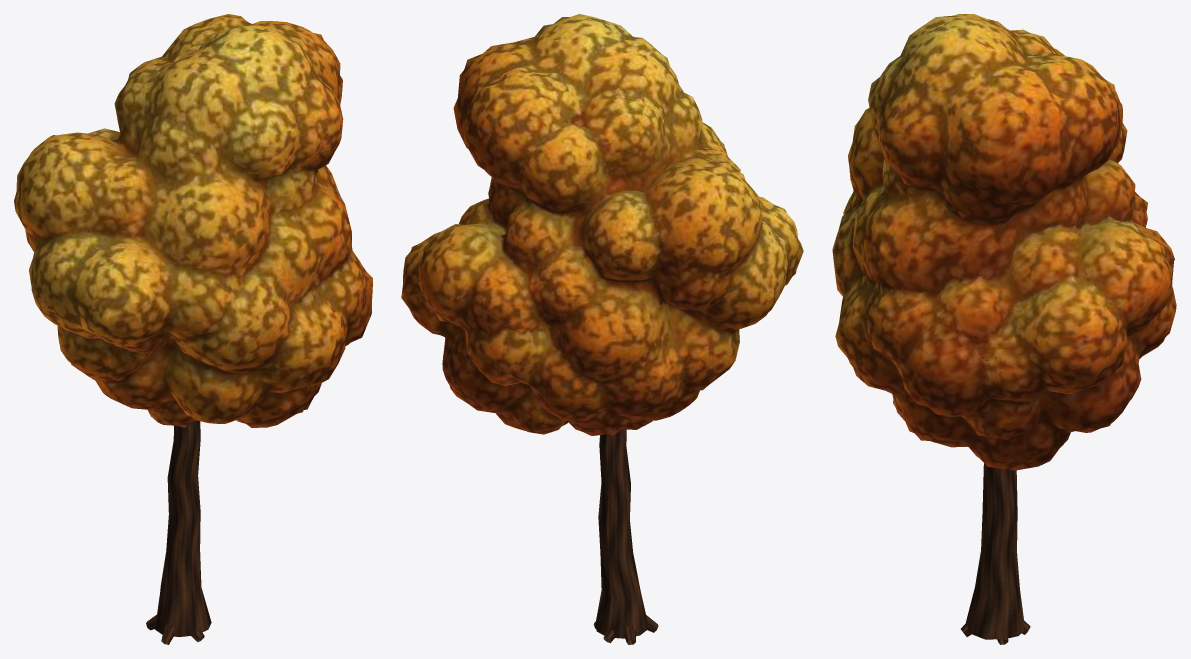
The model's file is tree_maple_orange_lod1.glb.
The picture shows the model from 3 angles, left to right: view 1: azimuth 30°, elevation 25°; view 2: azimuth 150°, elevation 25°; view 3: azimuth 270°, elevation 25°; orthographic projection. The views are drawn at different scales.
Visible parts, largest first — view 1: tree_maple_orange_crown1, trunk.001; view 2: tree_maple_orange_crown1, trunk.001; view 3: tree_maple_orange_crown1, trunk.001.
Part boxes in pixels (x1,y1,x2,y2): tree_maple_orange_crown1: [14, 14, 372, 427]; trunk.001: [146, 420, 211, 644]; tree_maple_orange_crown1: [401, 14, 803, 435]; trunk.001: [593, 429, 658, 644]; tree_maple_orange_crown1: [832, 14, 1176, 470]; trunk.001: [961, 463, 1030, 644].
Bounding box in the file's own units: 2.37 × 4.04 × 1.98.
Materials: 2 (2 with a texture image).
